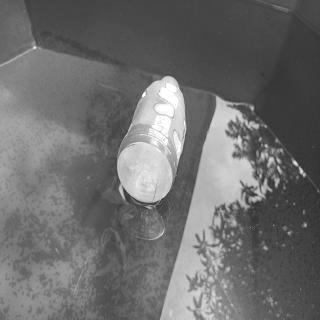bottle: (116, 74, 185, 204)
